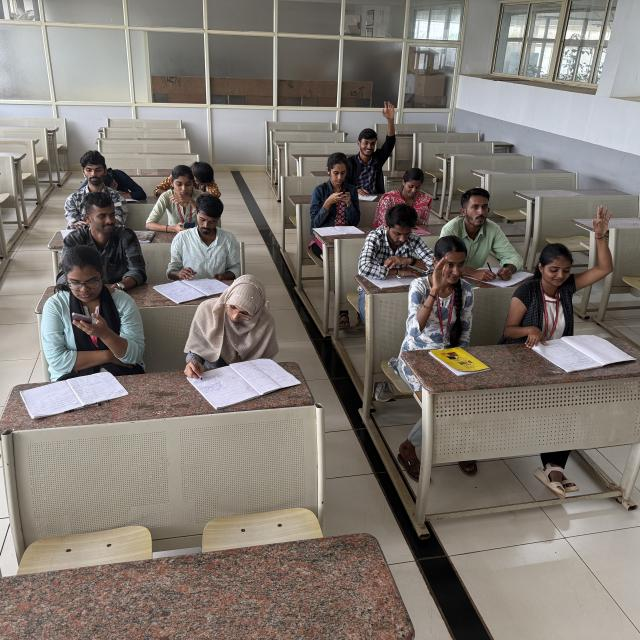Hand Rising: (518, 212, 618, 330), (345, 97, 397, 183)
Using Phone: (145, 164, 205, 236), (307, 154, 361, 223)
Writing: (185, 278, 296, 397), (443, 185, 528, 285), (167, 197, 246, 294)
